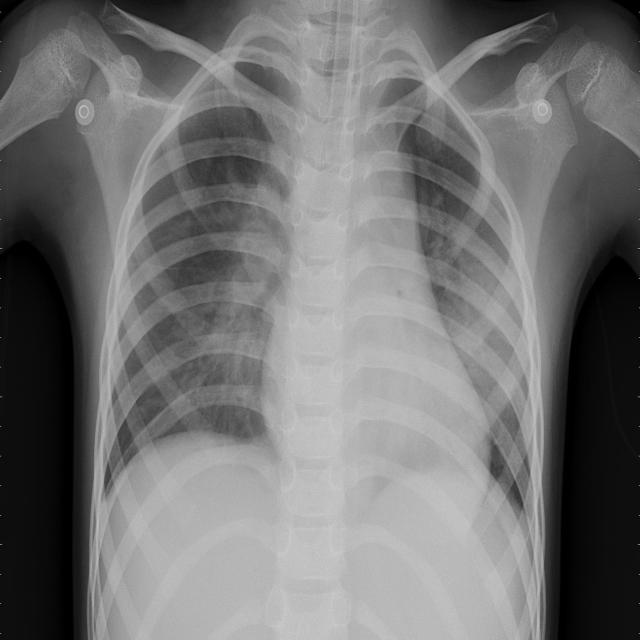low-pneumonia: (199, 178, 297, 403), (431, 231, 503, 412)
